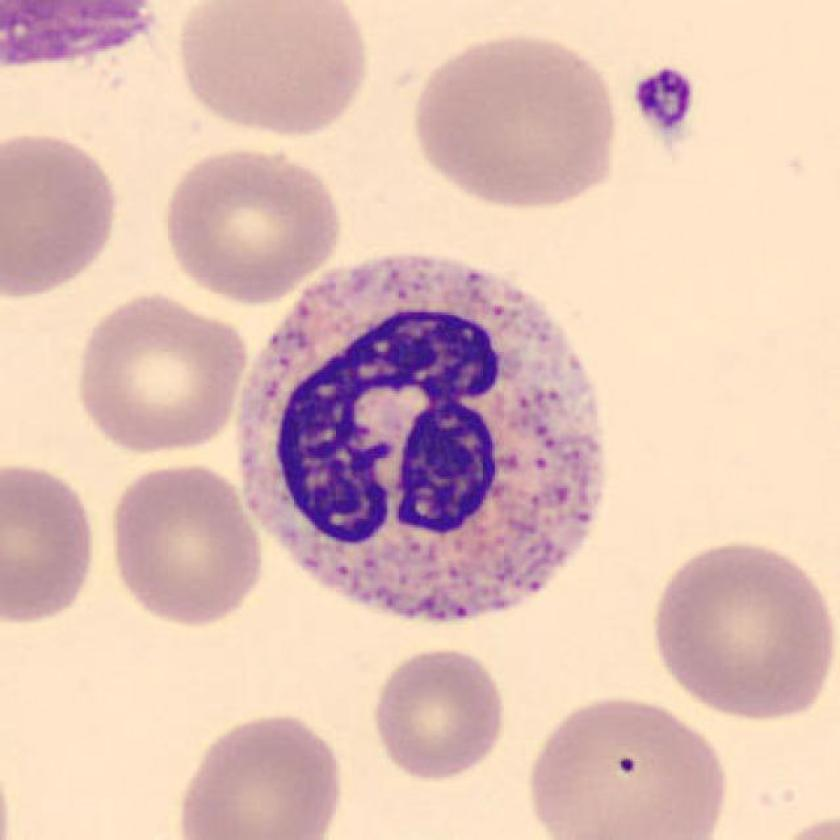neutrophil: (240, 254, 602, 622)
